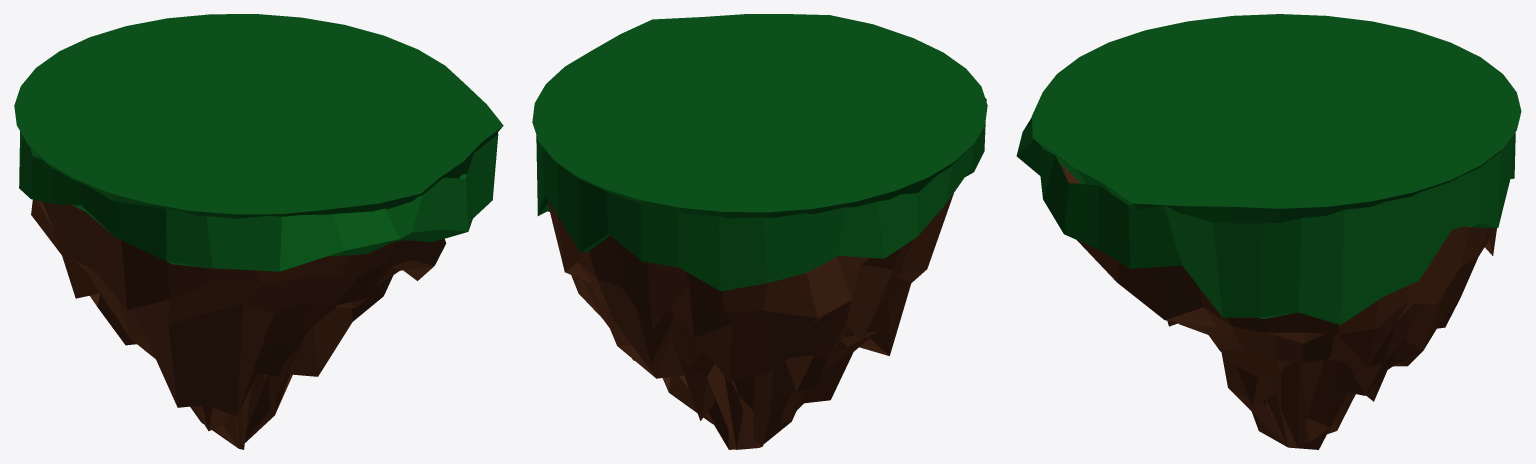
File: Terrain (1).fbx
3 renders of one model, left to right at view 1: azimuth 30°, elevation 25°; view 2: azimuth 150°, elevation 25°; view 3: azimuth 270°, elevation 25°, orthographic. The views are drawn at different scales.
Parts seen in each view (by area): view 1: Grass; view 2: Grass; view 3: Grass.
Boxes of the visible parts, bbox=[...] form: Grass: bbox=[14, 14, 503, 449]; Grass: bbox=[532, 14, 987, 449]; Grass: bbox=[1016, 14, 1521, 449].
Bounding box in the file's own units: 283 × 229 × 310.
